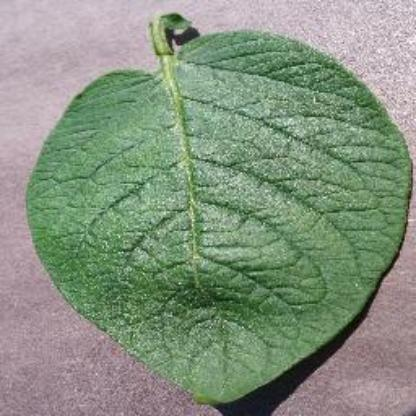Healthy-plant: (21, 11, 416, 409)
